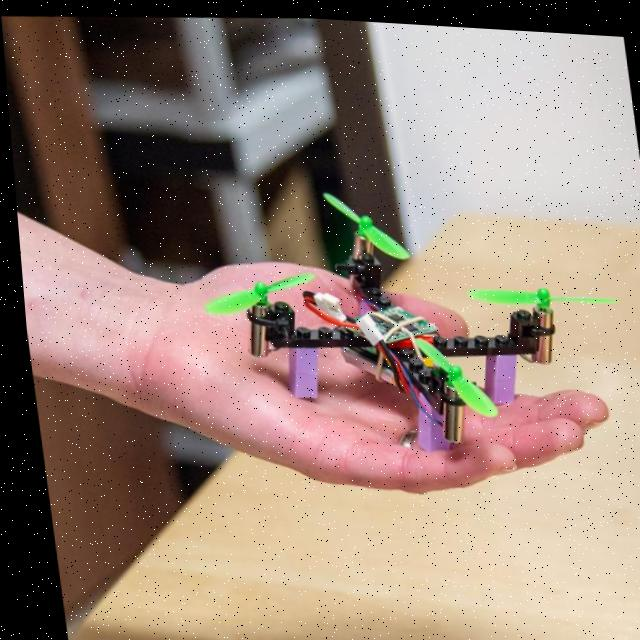drones: (156, 144, 640, 488)
